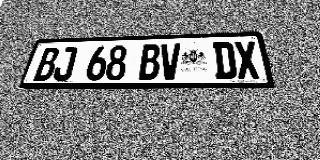6: (85, 46, 110, 81)
8: (105, 45, 128, 81)
B: (33, 47, 61, 81), (138, 44, 160, 80)
D: (213, 42, 238, 79)
J: (51, 47, 78, 81)
V: (159, 43, 180, 80)
X: (234, 41, 261, 79)
